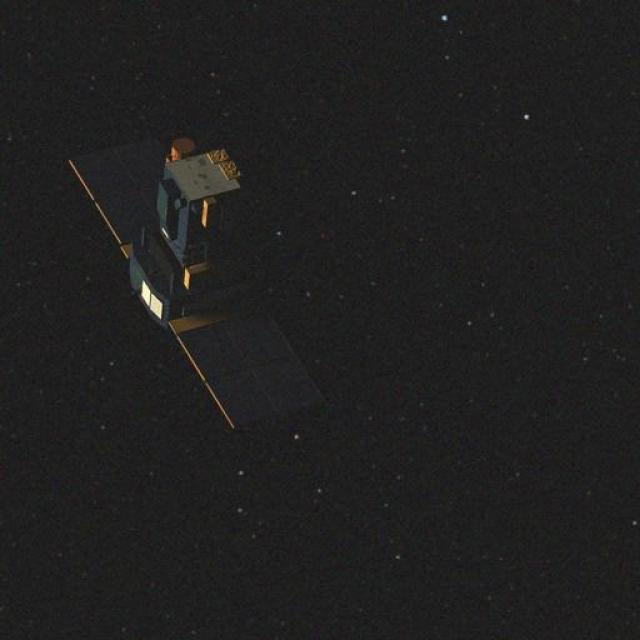soho: (46, 110, 328, 420)
